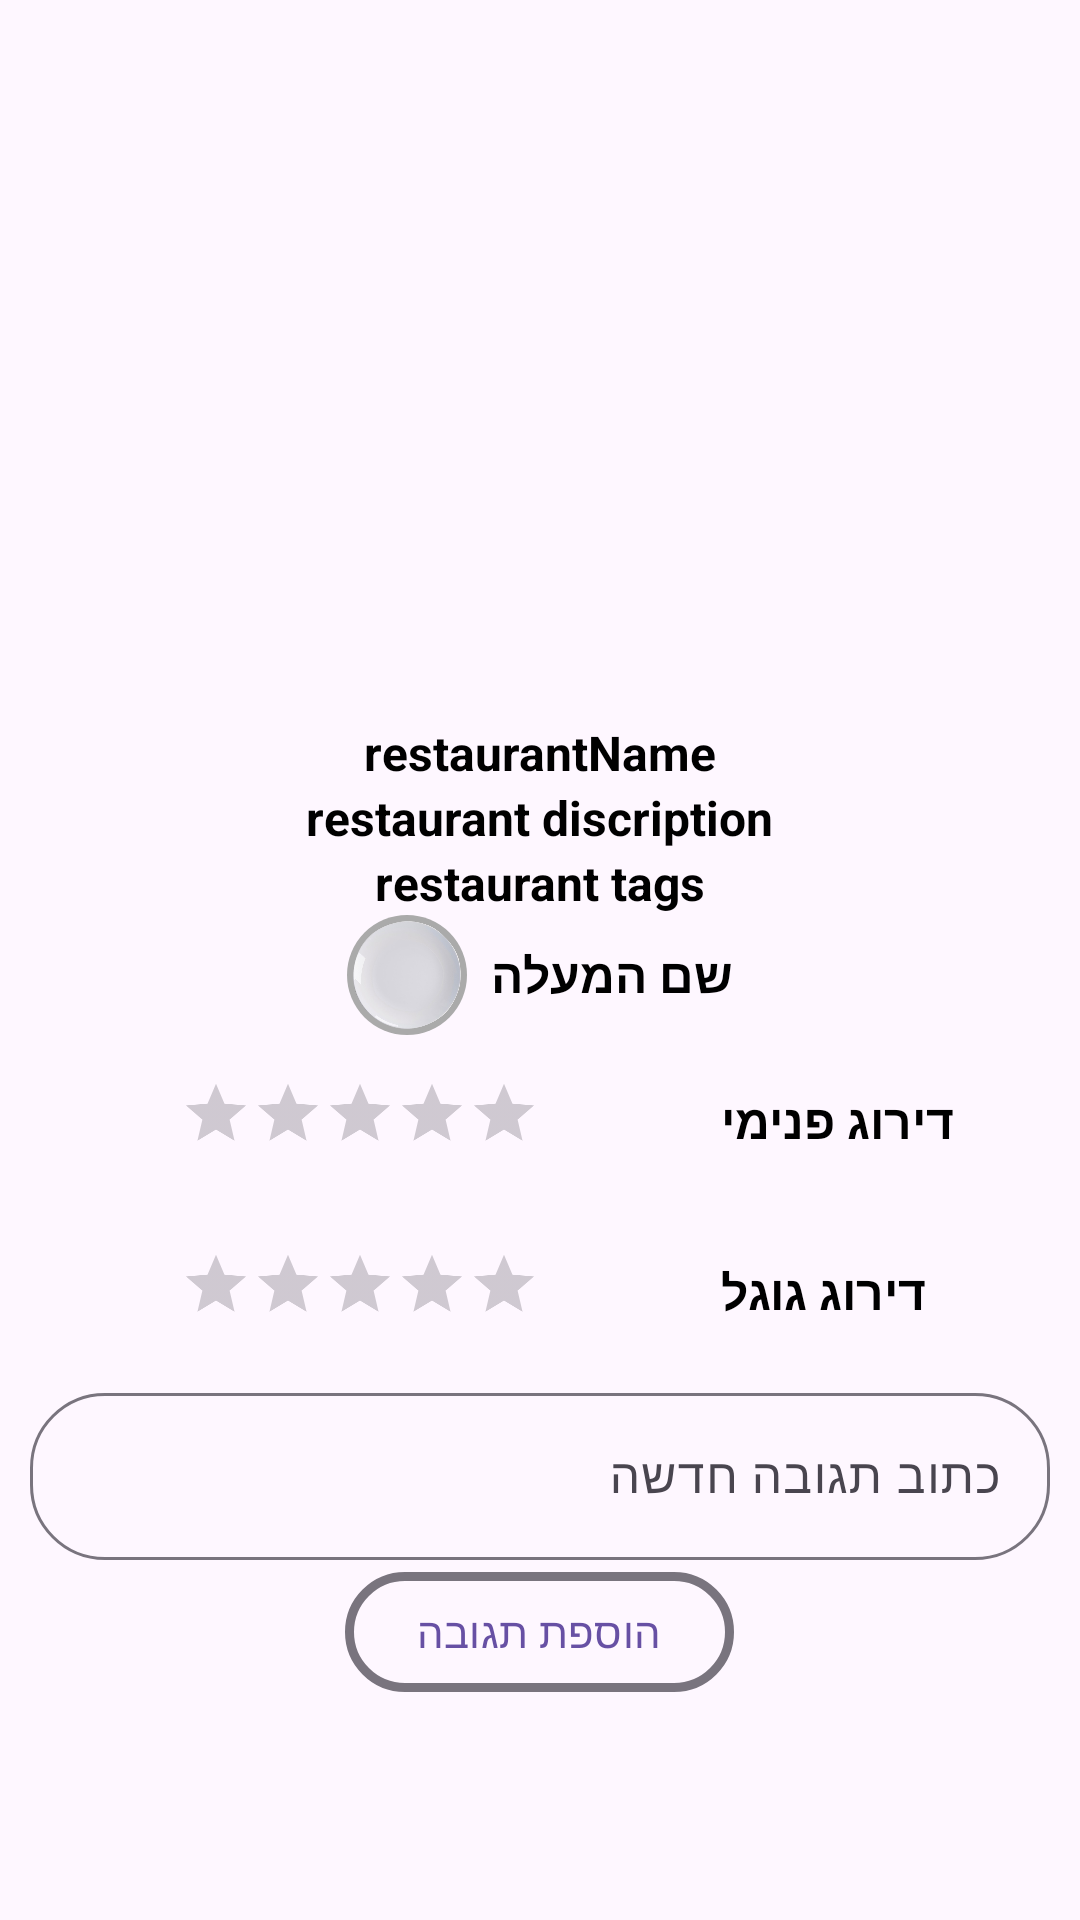

Icon click points for this 1080px×1920px phone screenshot, format (x=x, y=y):
plate: (x=407, y=975)
